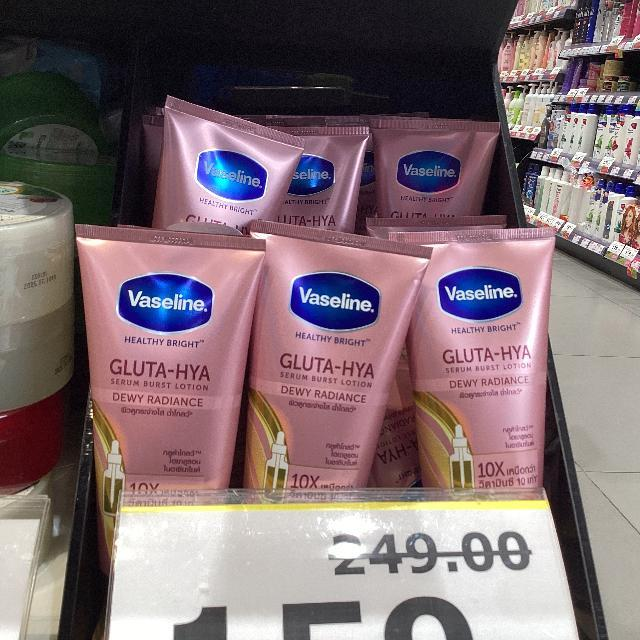Squeeze Tube: (96, 55, 571, 513), (227, 220, 426, 488), (78, 229, 265, 510), (386, 227, 554, 498), (157, 96, 303, 226), (370, 107, 503, 221)
